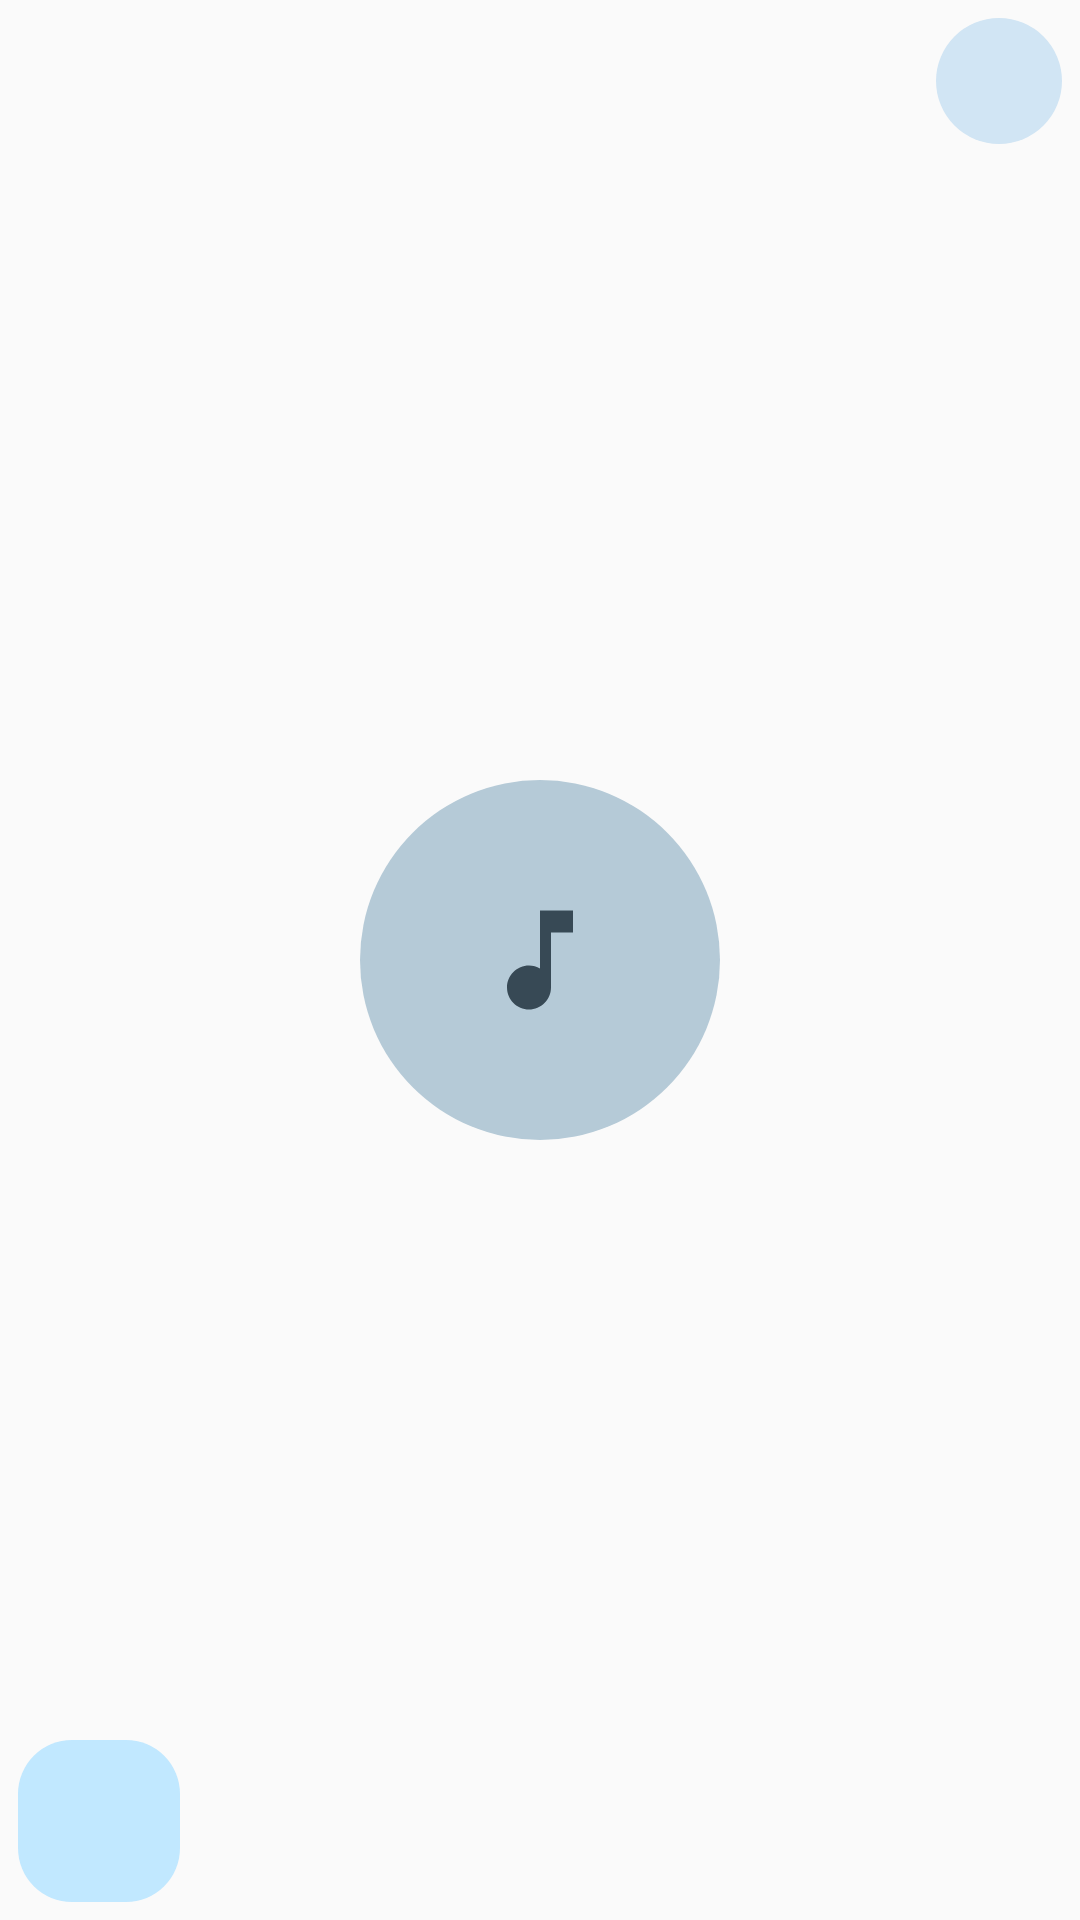

Screen size 1080 × 1920. Icon name, then its box in pixels as box=[x1, y1, x2, y2]:
widget music note: box=[360, 780, 720, 1140]
